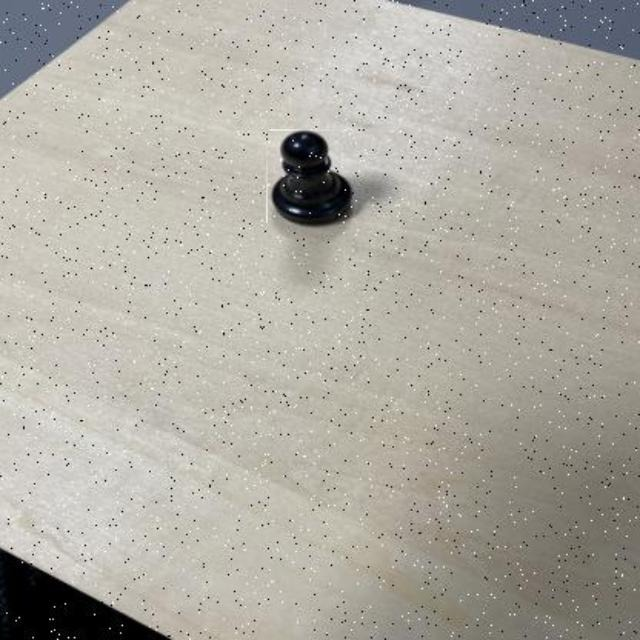black-pawn: (267, 131, 357, 229)
